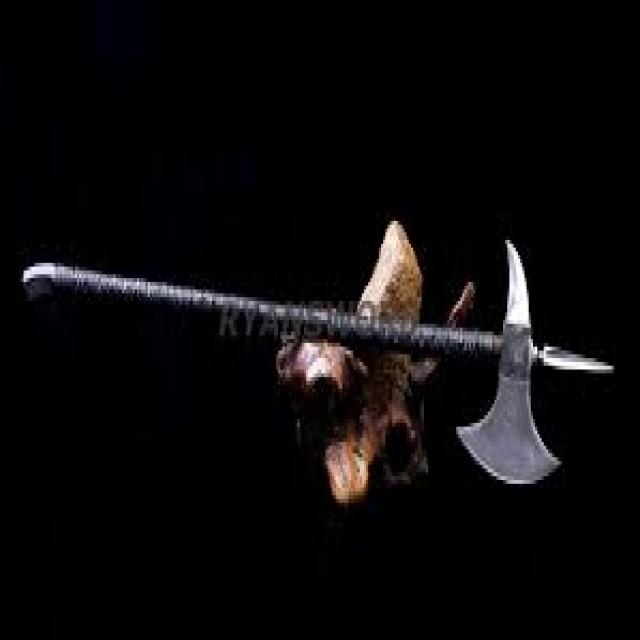Gun: (0, 167, 626, 514)
